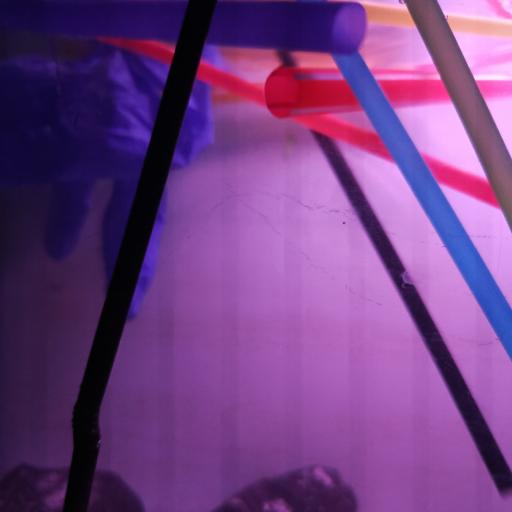glove: (0, 39, 222, 322)
plastic_straw: (60, 0, 219, 512), (309, 133, 512, 499), (106, 38, 497, 212), (331, 52, 512, 364), (404, 0, 512, 232), (1, 2, 368, 55), (266, 63, 512, 121), (362, 0, 512, 37)
